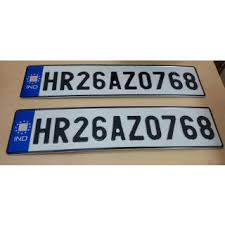inlp: (3, 100, 225, 160), (15, 61, 213, 103)
